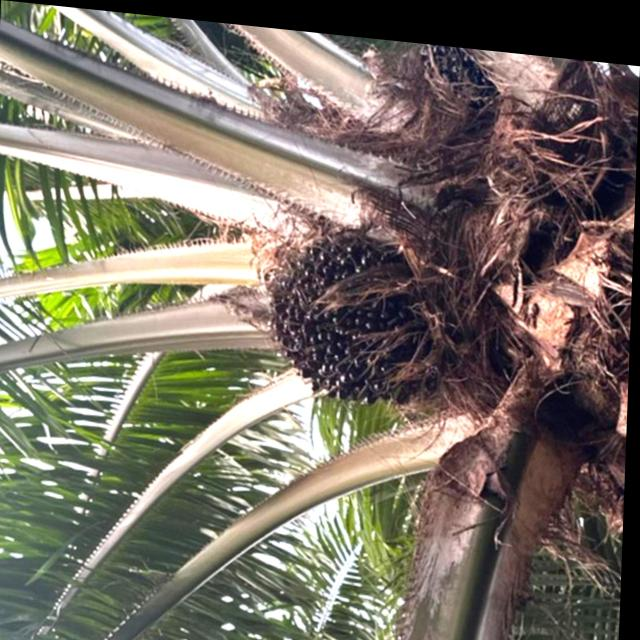almost: (247, 215, 436, 402), (411, 34, 500, 124)
